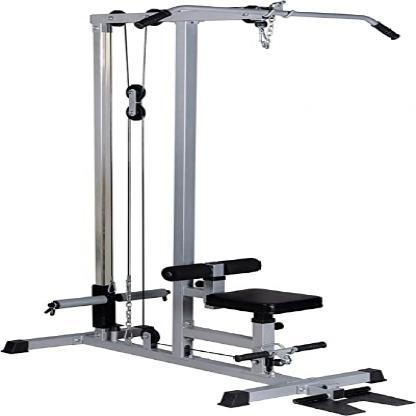Lat Pull Down: (9, 1, 416, 415)
